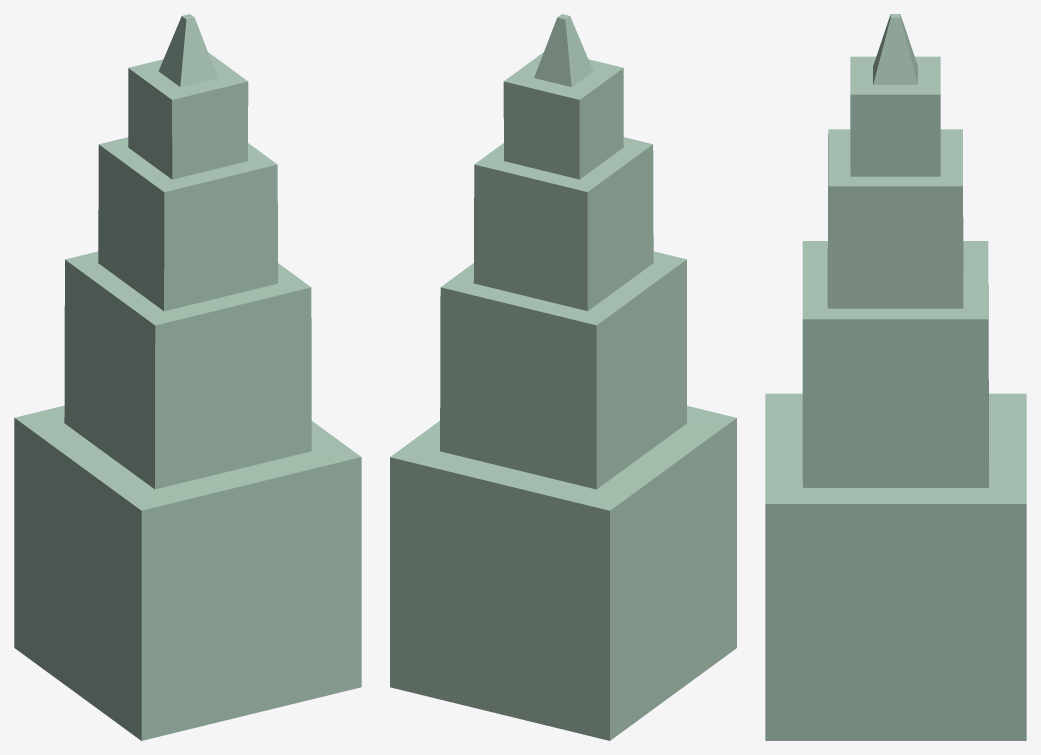
Rendered from skyscrapertest.fbx.
3 renders of one model, left to right at view 1: azimuth 30°, elevation 25°; view 2: azimuth 150°, elevation 25°; view 3: azimuth 270°, elevation 25°, orthographic. The views are drawn at different scales.
Visible parts, largest first — view 1: pCube14; view 2: pCube14; view 3: pCube14.
Part boxes in pixels (left/top/right/bottom): pCube14: left=14, top=14, right=361, bottom=740; pCube14: left=390, top=14, right=736, bottom=740; pCube14: left=765, top=14, right=1026, bottom=740.
Bounding box in the file's own units: 1057 × 2989 × 1057.
